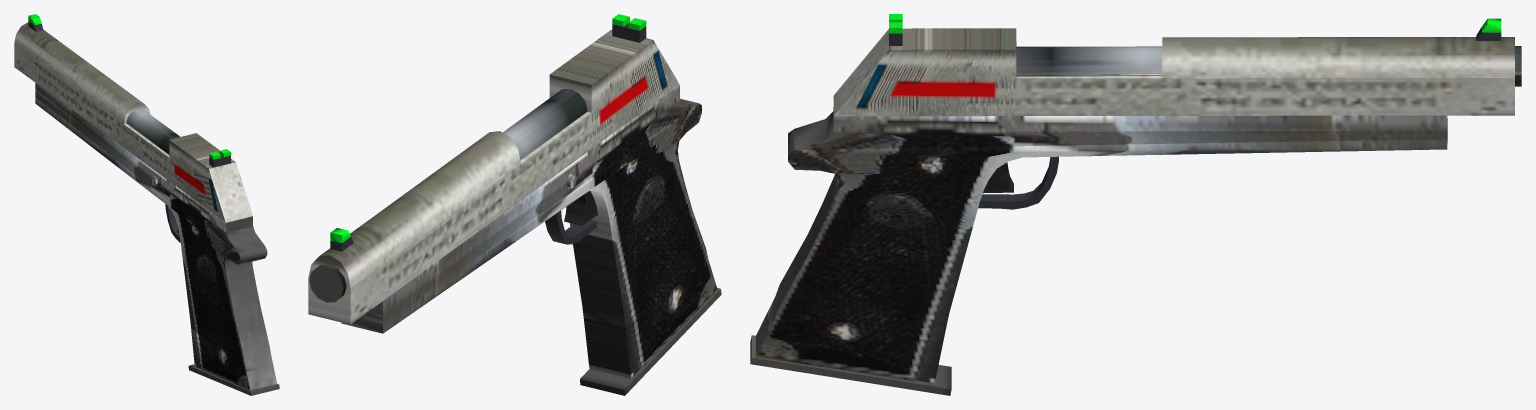
Rendered from magnum24_world.fbx.
The picture shows the model from 3 angles, left to right: view 1: azimuth 30°, elevation 25°; view 2: azimuth 150°, elevation 25°; view 3: azimuth 270°, elevation 25°; orthographic projection. The views are drawn at different scales.
Parts seen in each view (by area): view 1: magnum_body, magnum_slide, magnum_barrel, magnum_clip, magnum_rearsight, magnum_guard; view 2: magnum_body, magnum_slide, magnum_barrel, magnum_clip, magnum_guard, magnum_rearsight, magnum_trigger, magnum_frontsight; view 3: magnum_body, magnum_slide, magnum_barrel, magnum_clip, magnum_guard.
Boxes of the visible parts, <box> form: magnum_body: <box>35,83,276,390</box>; magnum_slide: <box>14,22,252,222</box>; magnum_barrel: <box>126,109,180,154</box>; magnum_clip: <box>188,364,279,395</box>; magnum_rearsight: <box>209,149,231,167</box>; magnum_guard: <box>165,204,180,242</box>; magnum_body: <box>341,85,717,378</box>; magnum_slide: <box>308,29,679,324</box>; magnum_barrel: <box>309,89,587,302</box>; magnum_clip: <box>580,288,721,395</box>; magnum_guard: <box>545,210,596,244</box>; magnum_rearsight: <box>612,14,646,42</box>; magnum_trigger: <box>564,191,597,225</box>; magnum_frontsight: <box>330,228,353,251</box>; magnum_body: <box>756,96,1447,383</box>; magnum_slide: <box>834,28,1514,116</box>; magnum_barrel: <box>1016,46,1521,86</box>; magnum_clip: <box>750,335,951,395</box>; magnum_guard: <box>978,156,1058,209</box>.
Size of the model in its own units: 1.31 by 9.55 by 18.35.
Materials: 1 (1 with a texture image).
